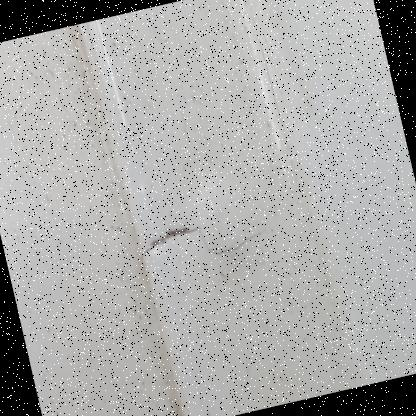Crack: (112, 166, 296, 352)
